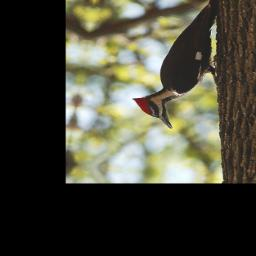Woodpecker: (127, 0, 246, 135)
